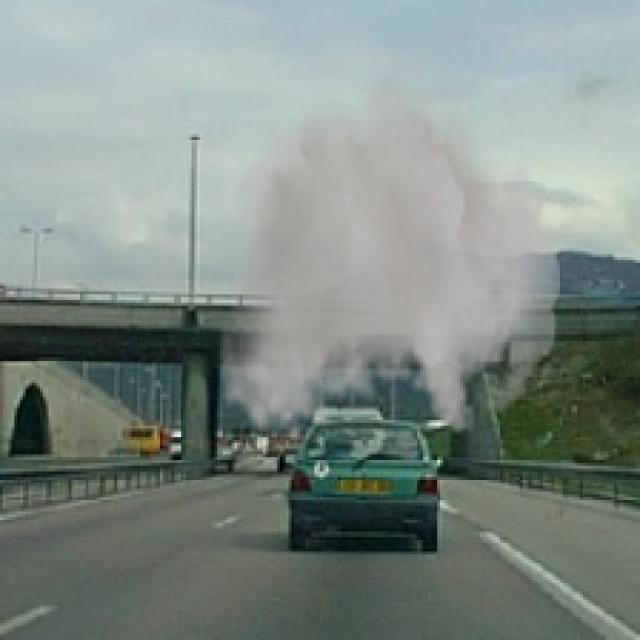smoke: (217, 51, 560, 446)
